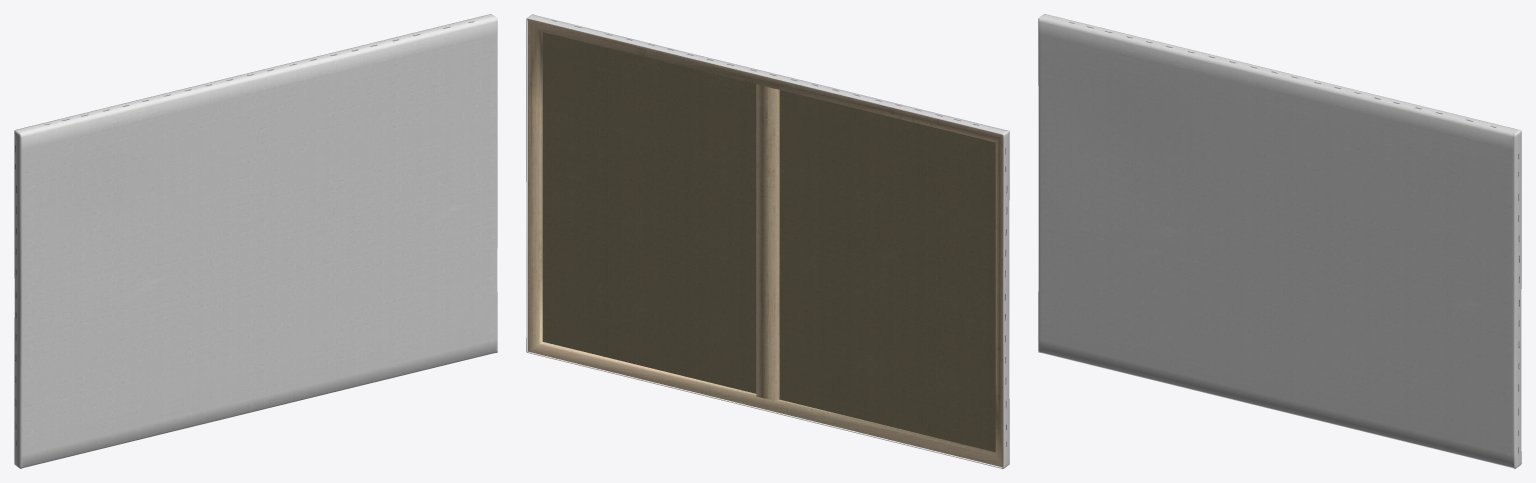
The model's file is banner.glb.
The picture shows the model from 3 angles, left to right: view 1: azimuth 30°, elevation 25°; view 2: azimuth 150°, elevation 25°; view 3: azimuth 330°, elevation 25°; orthographic projection.
Visible parts, largest first — view 1: SMS_Canvas; view 2: SMS_Canvas; view 3: SMS_Canvas.
Part boxes in pixels (x1,y1,x2,y2): SMS_Canvas: (14, 14, 497, 468); SMS_Canvas: (526, 14, 1009, 468); SMS_Canvas: (1038, 14, 1521, 468).
Size of the model in its own units: 1.3 by 0.8731 by 0.0318.
1 material, 1 textured.
